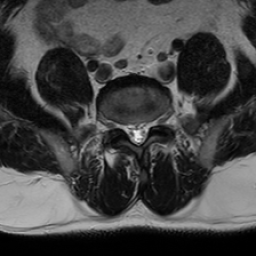CCS_normal: (133, 115, 141, 152)
LFS_stenosis: (149, 108, 157, 133)
LLS_normal: (141, 114, 149, 147)
RFS_stenosis: (116, 113, 124, 137)
RLS_normal: (124, 116, 133, 146)
